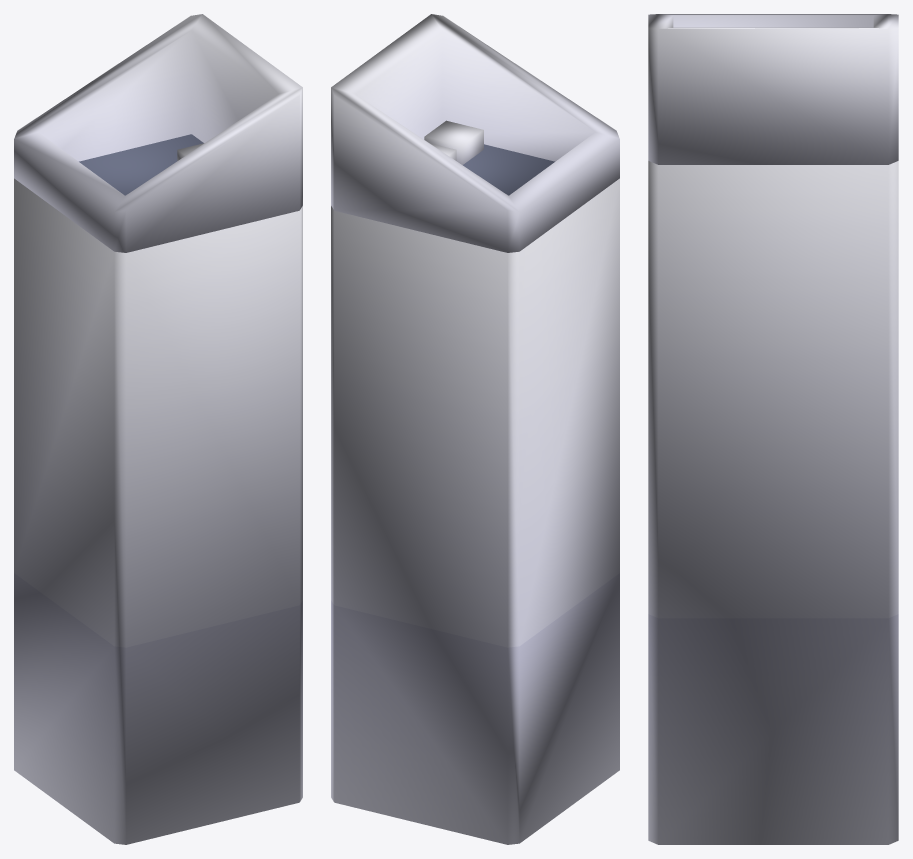
The model's file is low-detail-building-e_lev1.glb.
3 renders of one model, left to right at view 1: azimuth 30°, elevation 25°; view 2: azimuth 150°, elevation 25°; view 3: azimuth 270°, elevation 25°, orthographic. The views are drawn at different scales.
Visible parts, largest first — view 1: low-detail-building-e_lev1; view 2: low-detail-building-e_lev1; view 3: low-detail-building-e_lev1.
Boxes of the visible parts, x1,y1,x2,y2 form: low-detail-building-e_lev1: [14, 14, 302, 844]; low-detail-building-e_lev1: [331, 14, 619, 844]; low-detail-building-e_lev1: [648, 14, 898, 844].
Size of the model in its own units: 0.5 by 1.8 by 0.5.
1 material, 1 textured.
